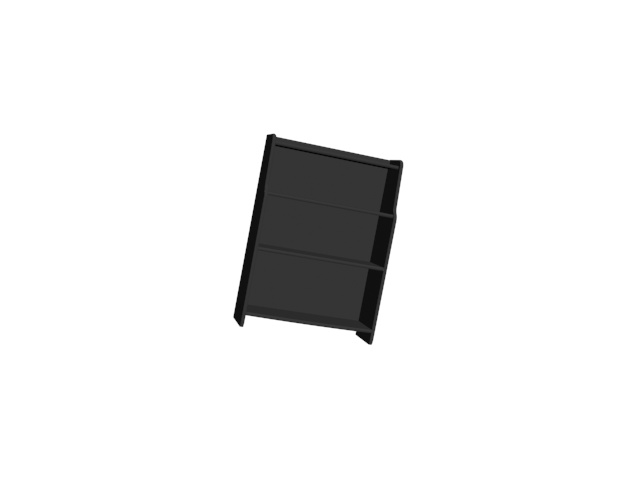bookcase: (233, 129, 408, 352)
